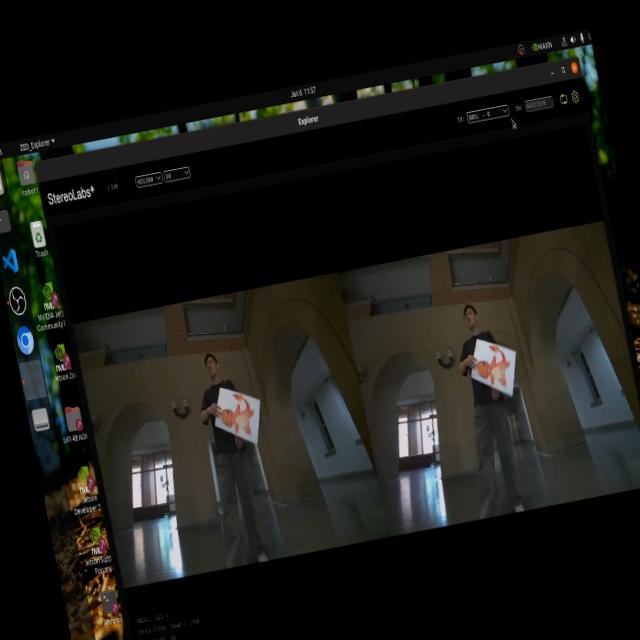red: (472, 353, 520, 409), (218, 384, 259, 436)
